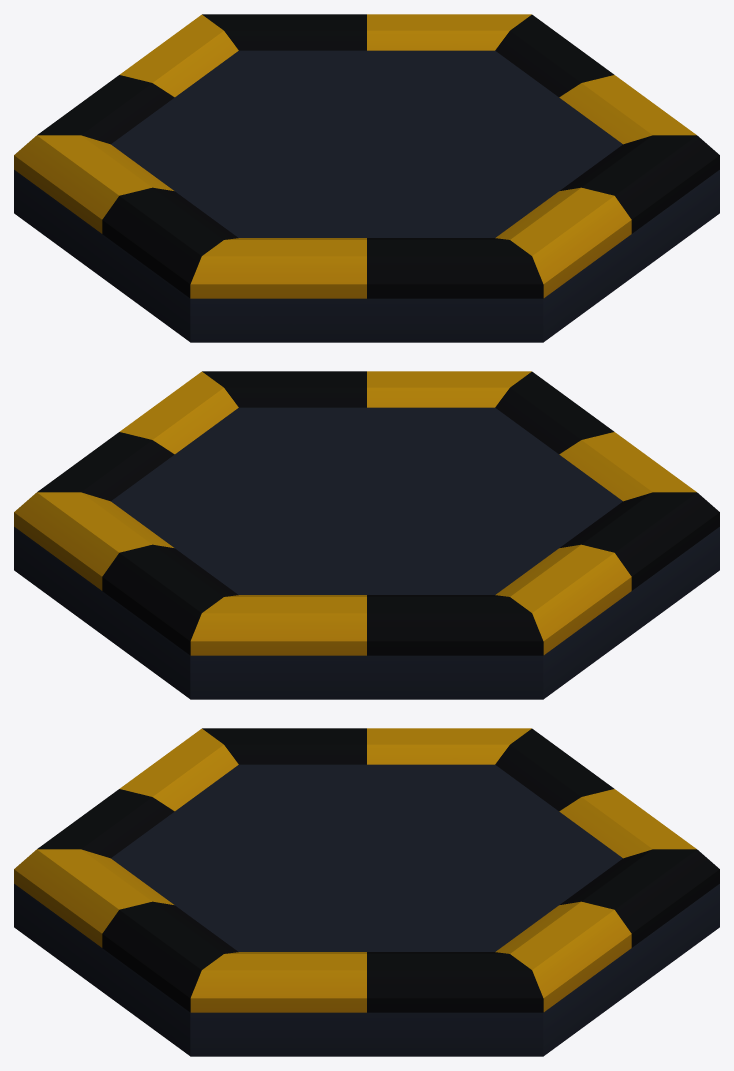
The model's file is Hexagon 03.FBX.
The picture shows the model from 3 angles, top to bottom: view 1: azimuth 30°, elevation 25°; view 2: azimuth 150°, elevation 25°; view 3: azimuth 270°, elevation 25°; orthographic projection.
Visible parts, largest first — view 1: Hexagon 03; view 2: Hexagon 03; view 3: Hexagon 03.
Boxes of the visible parts, <box> form: Hexagon 03: <box>14,14,719,342</box>; Hexagon 03: <box>14,371,719,699</box>; Hexagon 03: <box>14,728,719,1056</box>.
Bounding box in the file's own units: 280 × 39.42 × 323.
1 material, 1 textured.
